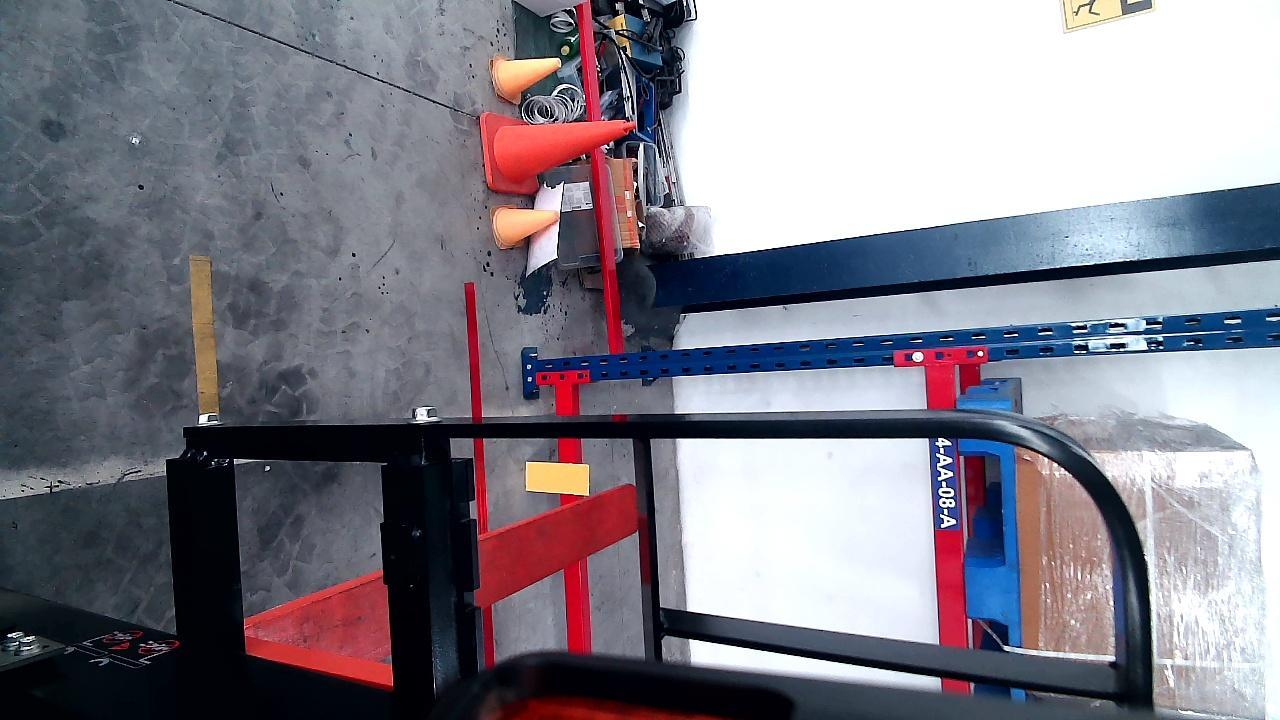red_line: (465, 286, 488, 538)
yellow_line: (191, 250, 221, 416)
